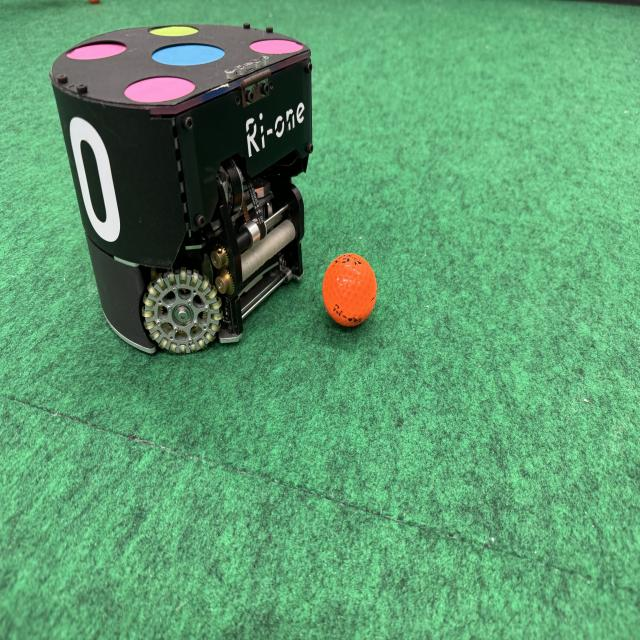ball: (322, 250, 380, 332)
